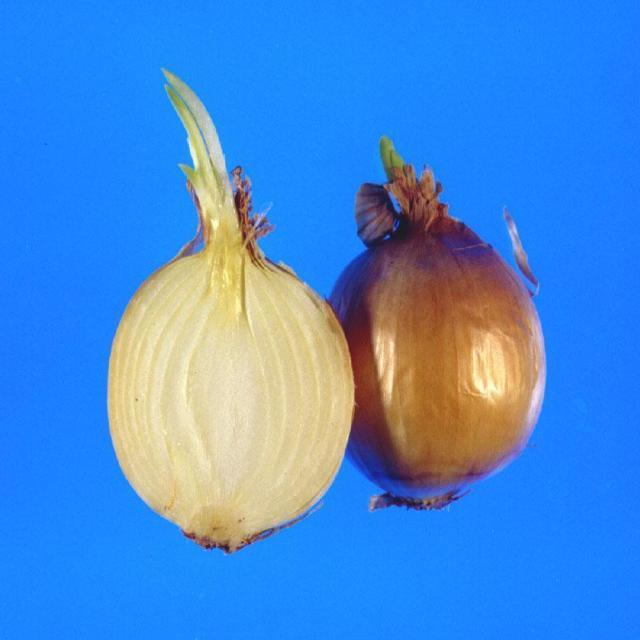Onion: (108, 164, 358, 551), (328, 166, 546, 506), (162, 63, 240, 227), (379, 134, 404, 180)
